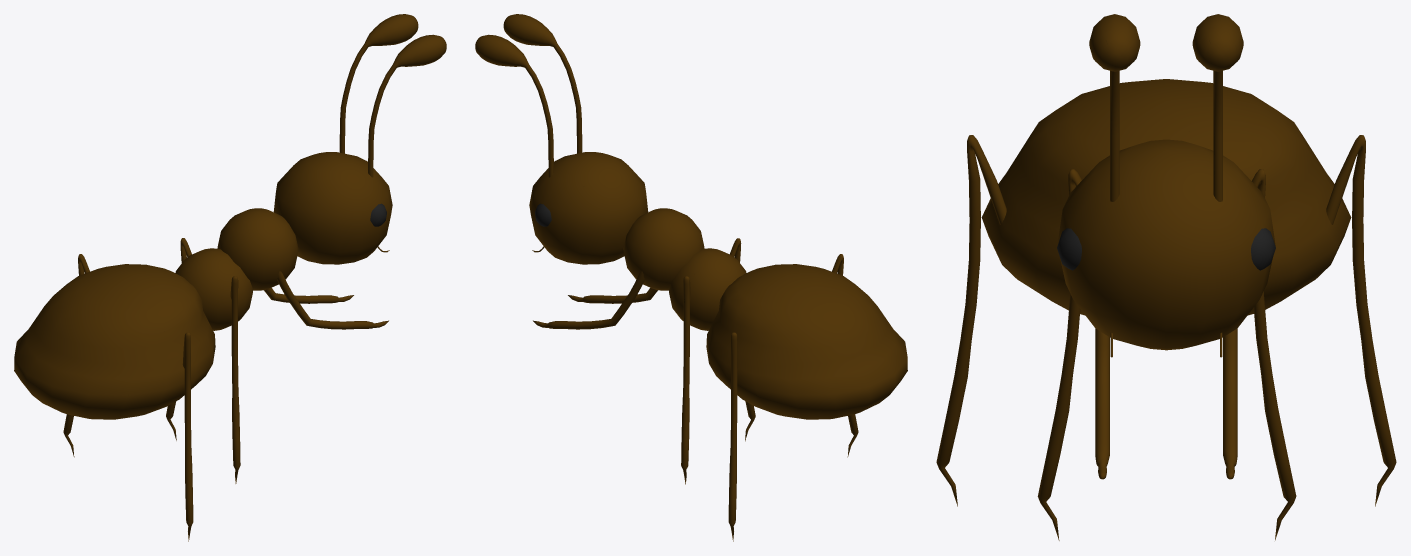
The model's file is ant.obj.
3 views of the same model, side by side, from view 1: azimuth 30°, elevation 25°; view 2: azimuth 150°, elevation 25°; view 3: azimuth 270°, elevation 25° (orthographic). The views are drawn at different scales.
Parts seen in each view (by area): view 1: Sphere, Plane, Plane.001, Plane.002, Plane.003; view 2: Sphere, Plane, Plane.001, Plane.002, Plane.003; view 3: Sphere, Plane.001, Plane, Plane.002, Plane.003, Icosphere.
Boxes of the visible parts, bbox=[...] form: Sphere: bbox=[14, 152, 392, 419]; Plane: bbox=[339, 14, 446, 177]; Plane.001: bbox=[63, 254, 193, 541]; Plane.002: bbox=[166, 238, 240, 483]; Plane.003: bbox=[264, 271, 388, 329]; Sphere: bbox=[529, 152, 907, 419]; Plane: bbox=[475, 14, 582, 177]; Plane.001: bbox=[728, 254, 858, 541]; Plane.002: bbox=[681, 238, 755, 484]; Plane.003: bbox=[533, 271, 657, 329]; Sphere: bbox=[981, 79, 1351, 350]; Plane.001: bbox=[936, 135, 1396, 506]; Plane: bbox=[1089, 14, 1243, 201]; Plane.002: bbox=[1037, 169, 1296, 540]; Plane.003: bbox=[1095, 328, 1237, 479]; Icosphere: bbox=[1057, 228, 1275, 270].
Bounding box in the file's own units: 3.48 × 3.33 × 1.89.
7 materials, 7 textured.
